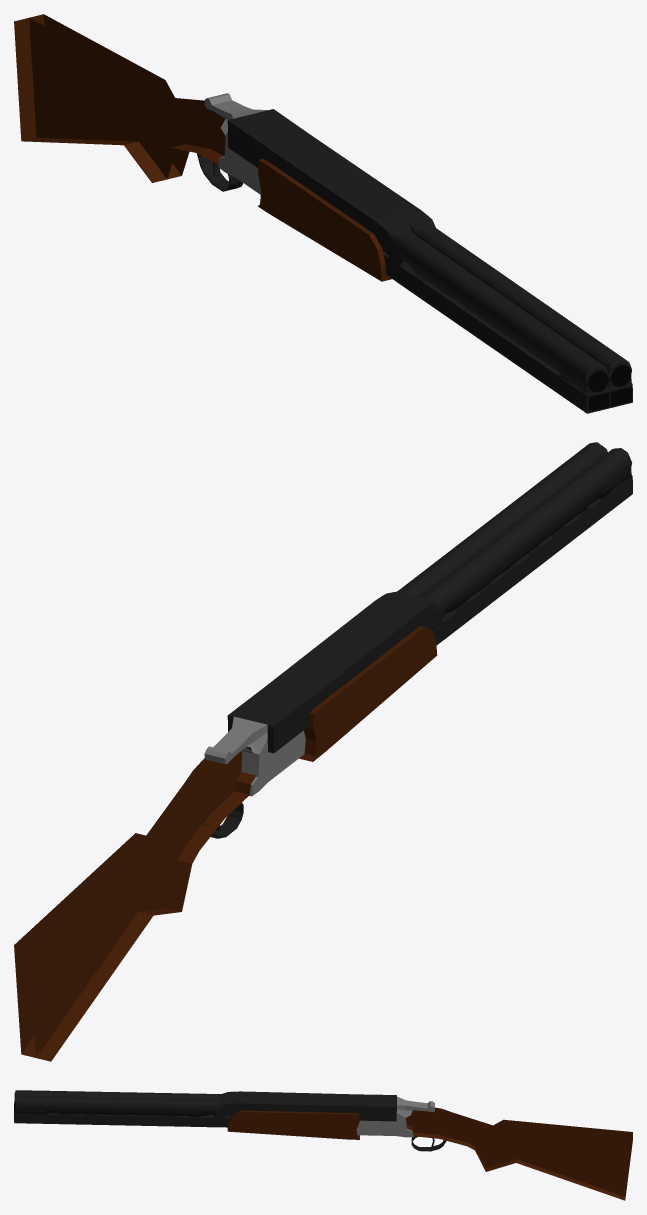
Rendered from Fusil de chase.glb.
3 views of the same model, one above another, from view 1: azimuth 30°, elevation 25°; view 2: azimuth 150°, elevation 25°; view 3: azimuth 270°, elevation 25° (orthographic). The views are drawn at different scales.
Parts seen in each view (by area): view 1: Plane.003, Plane, Plane.002, Plane.001, Plane.004; view 2: Plane.003, Plane, Plane.002, Plane.001; view 3: Plane.003, Plane, Plane.002, Plane.001, Plane.004.
Boxes of the visible parts, <box> form: Plane.003: <box>227,109,632,413</box>; Plane: <box>14,14,225,182</box>; Plane.002: <box>258,158,391,281</box>; Plane.001: <box>204,93,267,194</box>; Plane.004: <box>196,147,242,191</box>; Plane.003: <box>227,442,632,753</box>; Plane: <box>14,746,255,1061</box>; Plane.002: <box>299,626,437,761</box>; Plane.001: <box>204,716,305,796</box>; Plane.003: <box>14,1090,396,1127</box>; Plane: <box>406,1107,632,1200</box>; Plane.002: <box>227,1110,359,1139</box>; Plane.001: <box>356,1096,434,1137</box>; Plane.004: <box>411,1136,447,1151</box>.
Size of the model in its own units: 0.2661 by 0.8885 by 4.84.
